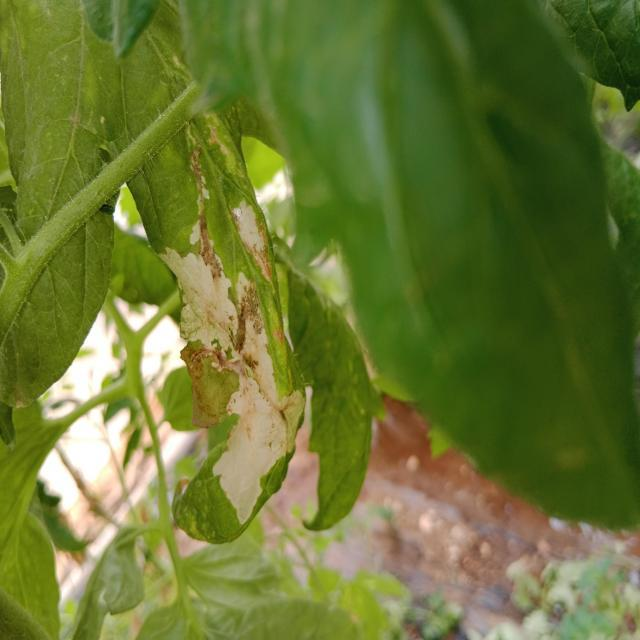Tuta absoluta: (157, 205, 328, 528), (227, 197, 286, 284)
